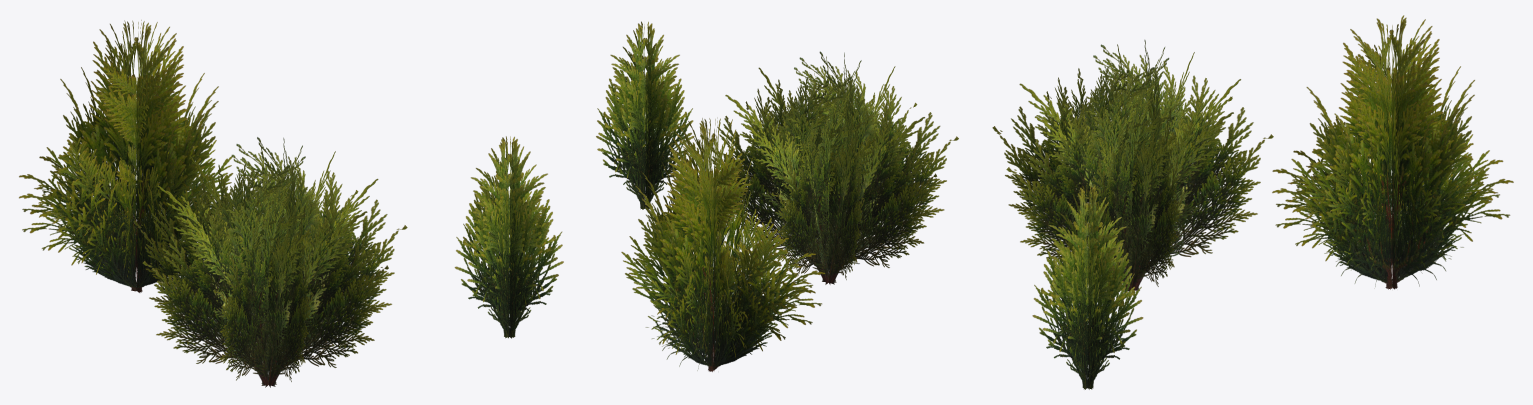
The model's file is morpankh.glb.
3 views of the same model, side by side, from view 1: azimuth 30°, elevation 25°; view 2: azimuth 150°, elevation 25°; view 3: azimuth 270°, elevation 25° (orthographic). The views are drawn at different scales.
Parts seen in each view (by area): view 1: Plane001_Material #25_0, Plane009_Material #25_0, Plane019_Material #25_0; view 2: Plane001_Material #25_0, Plane009_Material #25_0, Plane019_Material #25_0; view 3: Plane001_Material #25_0, Plane009_Material #25_0, Plane019_Material #25_0.
Part boxes in pixels (<box>): Plane001_Material #25_0: <box>133,137,407,387</box>; Plane009_Material #25_0: <box>19,20,233,292</box>; Plane019_Material #25_0: <box>454,136,563,338</box>; Plane001_Material #25_0: <box>700,51,958,284</box>; Plane009_Material #25_0: <box>621,117,825,371</box>; Plane019_Material #25_0: <box>596,21,694,209</box>; Plane001_Material #25_0: <box>992,40,1273,291</box>; Plane009_Material #25_0: <box>1272,15,1513,289</box>; Plane019_Material #25_0: <box>1032,184,1143,389</box>.
Size of the model in its own units: 1.16 by 0.7617 by 1.35.
Materials: 1 (1 with a texture image).
